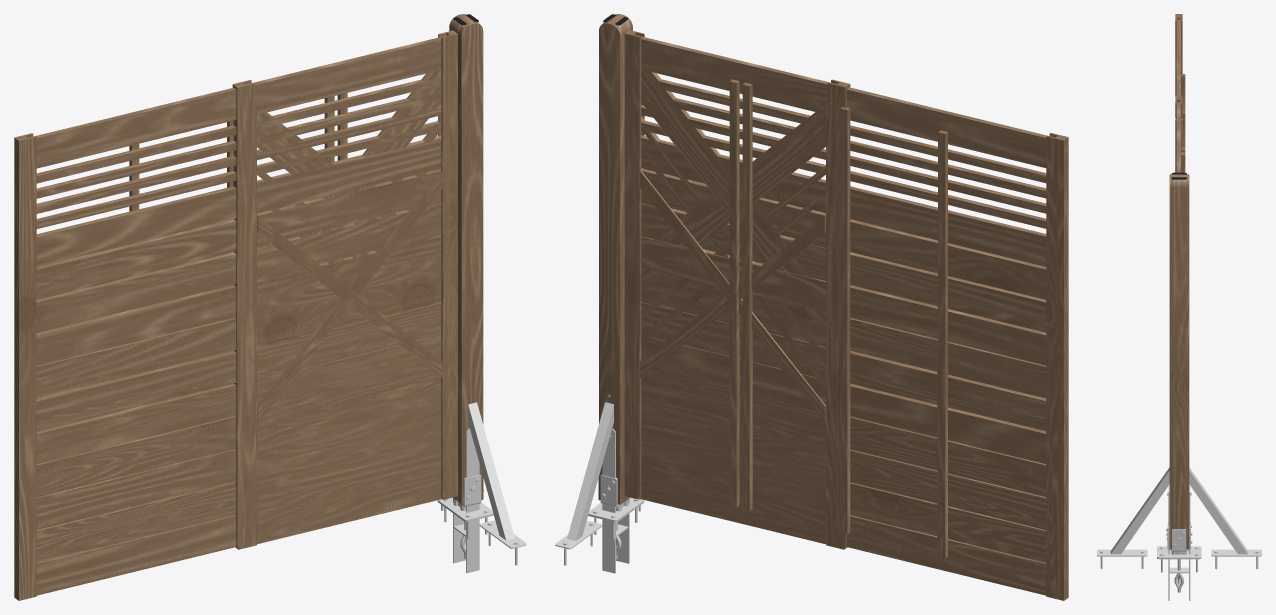
The model's file is sinaCombo23.glb.
3 renders of one model, left to right at view 1: azimuth 30°, elevation 25°; view 2: azimuth 150°, elevation 25°; view 3: azimuth 270°, elevation 25°, orthographic. The views are drawn at different scales.
Visible parts, largest first — view 1: OgradaSina180x180, OgradaSina180x90, OgradaSinaKosaLeva, OgradaSinaKosaDesna, OgradaSina90x180, stubić Sina, sturmanker-right-front, Nosač Stubića Sina, post-root-right; view 2: OgradaSina180x180, OgradaSina180x90, OgradaSina90x180, OgradaSinaKosaLeva, OgradaSinaKosaDesna, stubić Sina, sturmanker-right-rear, Nosač Stubića Sina, post-root-right; view 3: stubić Sina, sturmanker-right-rear, sturmanker-right-front, OgradaSina180x180, OgradaSina90x180, Nosač Stubića Sina, post-root-right, NosacBoth.
Boxes of the visible parts, x1,y1,x2,y2 form: OgradaSina180x180: (14, 30, 457, 600); OgradaSina180x90: (19, 264, 457, 594); OgradaSinaKosaLeva: (235, 41, 457, 549); OgradaSinaKosaDesna: (239, 92, 457, 545); OgradaSina90x180: (232, 30, 457, 547); stubić Sina: (449, 14, 483, 504); sturmanker-right-front: (468, 402, 526, 565); Nosač Stubića Sina: (453, 428, 479, 573); post-root-right: (437, 497, 493, 538); OgradaSina180x180: (624, 30, 1068, 600); OgradaSina180x90: (625, 263, 1057, 597); OgradaSina90x180: (624, 30, 850, 547); OgradaSinaKosaLeva: (624, 51, 847, 549); OgradaSinaKosaDesna: (625, 102, 842, 549); stubić Sina: (599, 14, 632, 504); sturmanker-right-rear: (555, 394, 613, 565); Nosač Stubića Sina: (602, 428, 629, 573); post-root-right: (588, 498, 644, 539); stubić Sina: (1169, 174, 1189, 549); sturmanker-right-rear: (1189, 467, 1261, 569); sturmanker-right-front: (1097, 467, 1169, 568); OgradaSina180x180: (1175, 14, 1185, 152); OgradaSina90x180: (1175, 96, 1185, 172); Nosač Stubića Sina: (1167, 486, 1191, 600); post-root-right: (1157, 546, 1201, 572); NosacBoth: (1172, 529, 1186, 585).
Size of the model in its own units: 1.9 by 2.14 by 0.7571.
Materials: 8 (1 with a texture image).
